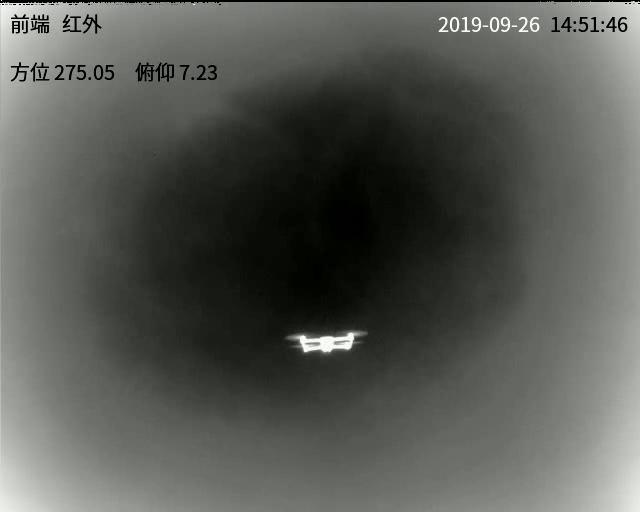DRONE: (289, 330, 363, 354)
